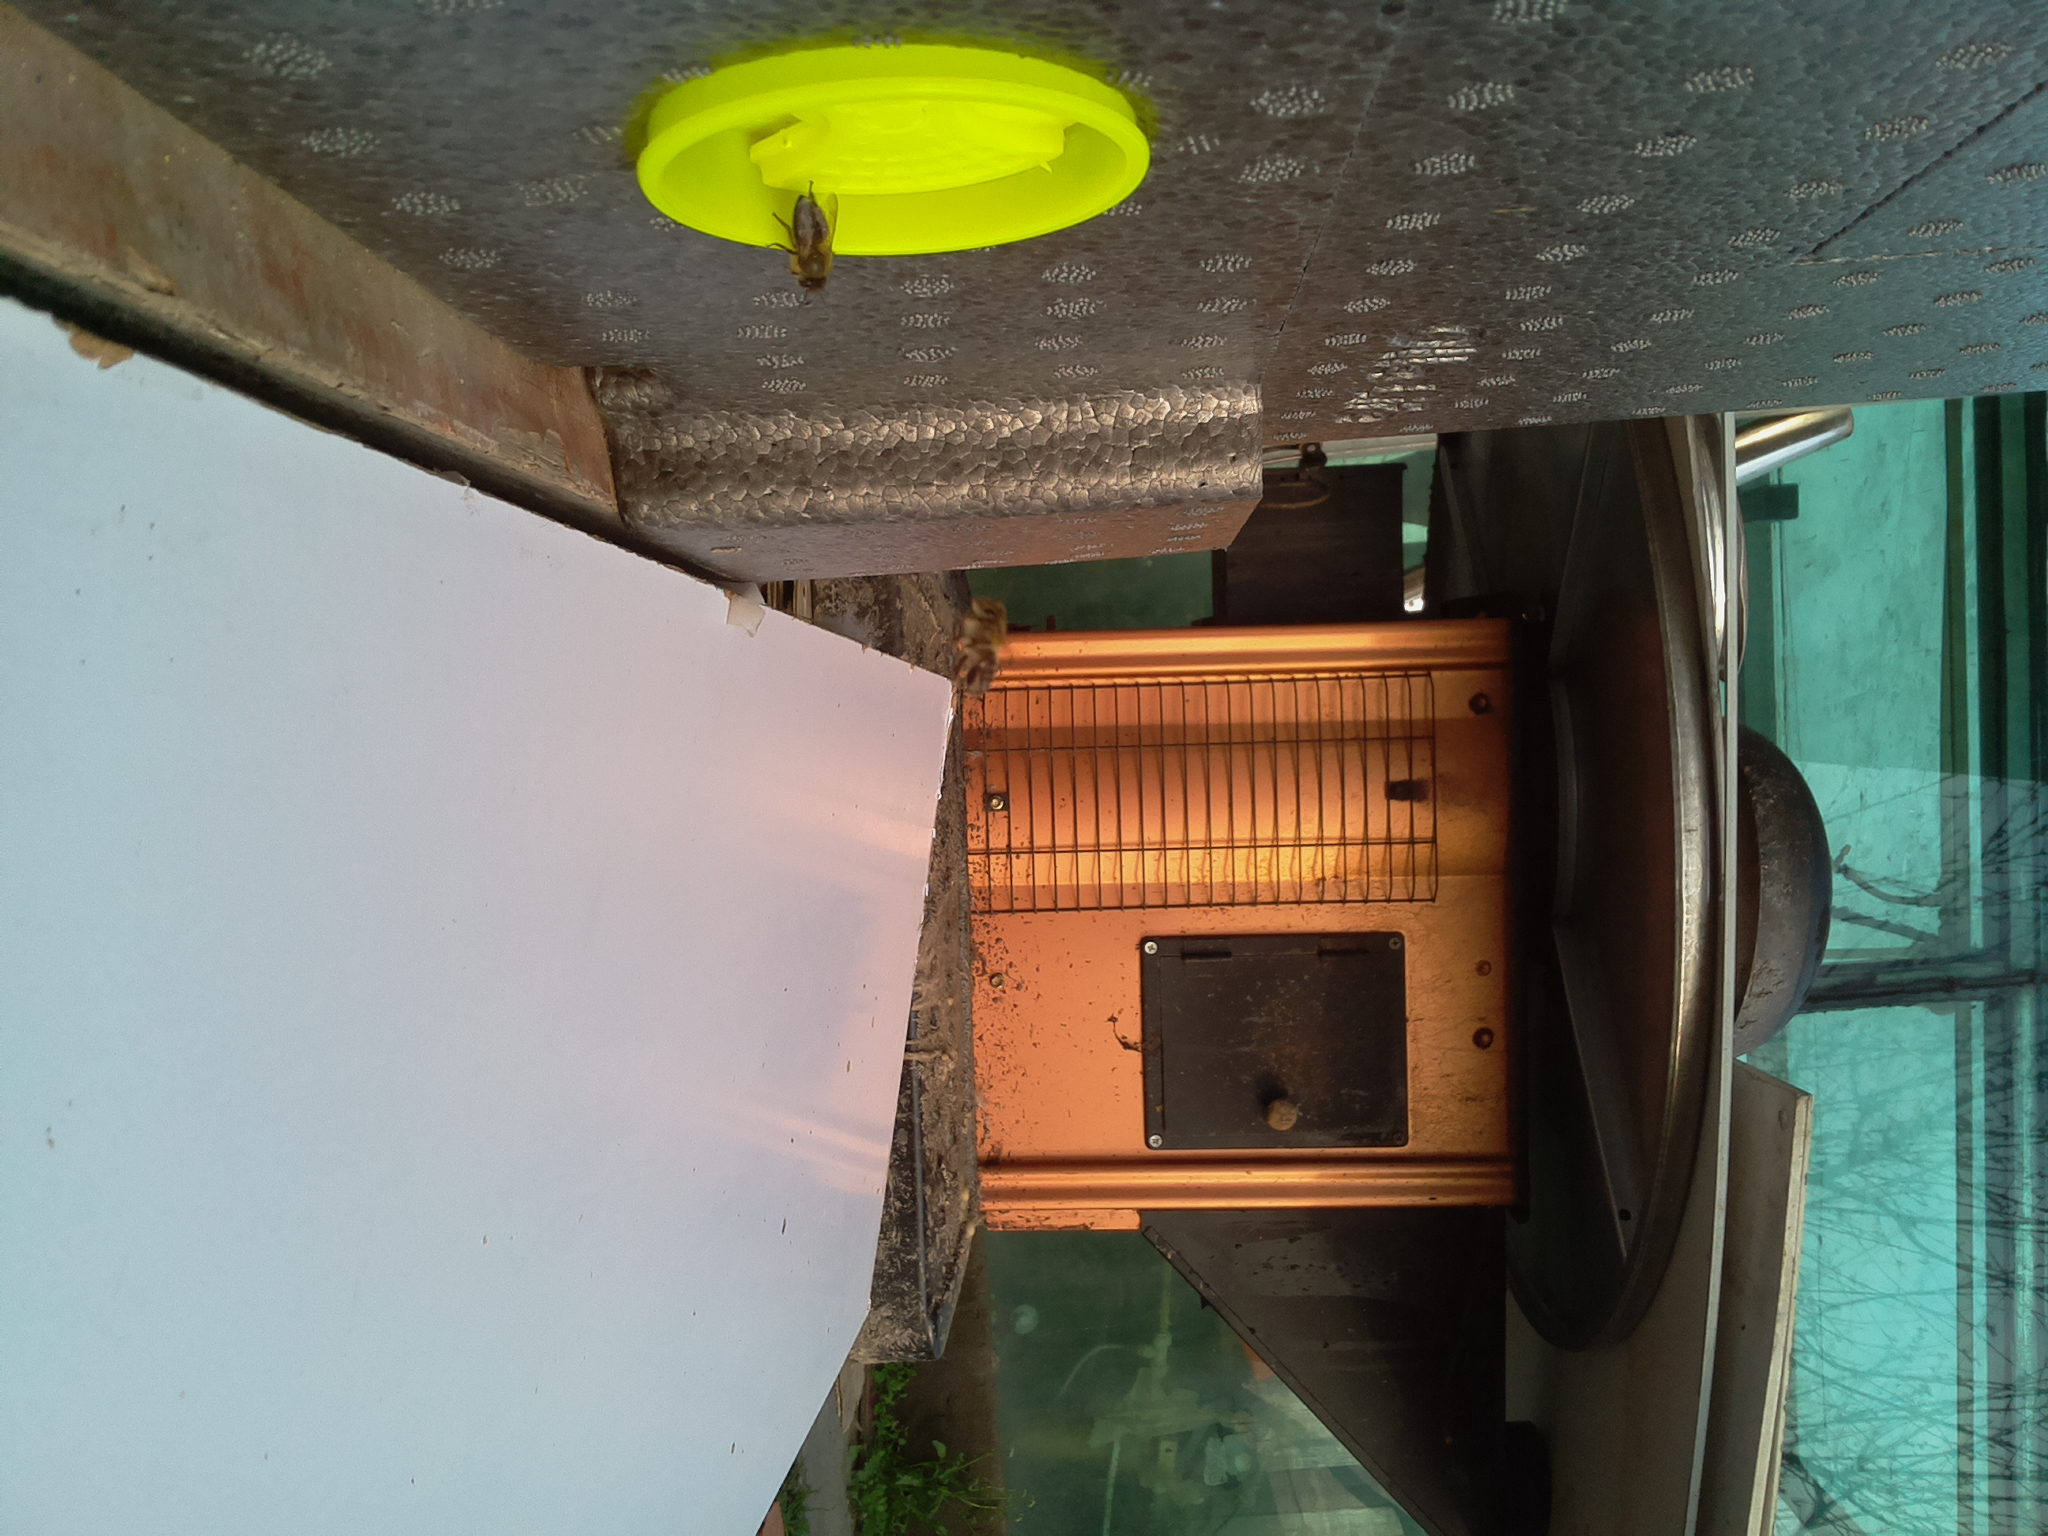bee: (787, 188, 835, 294)
